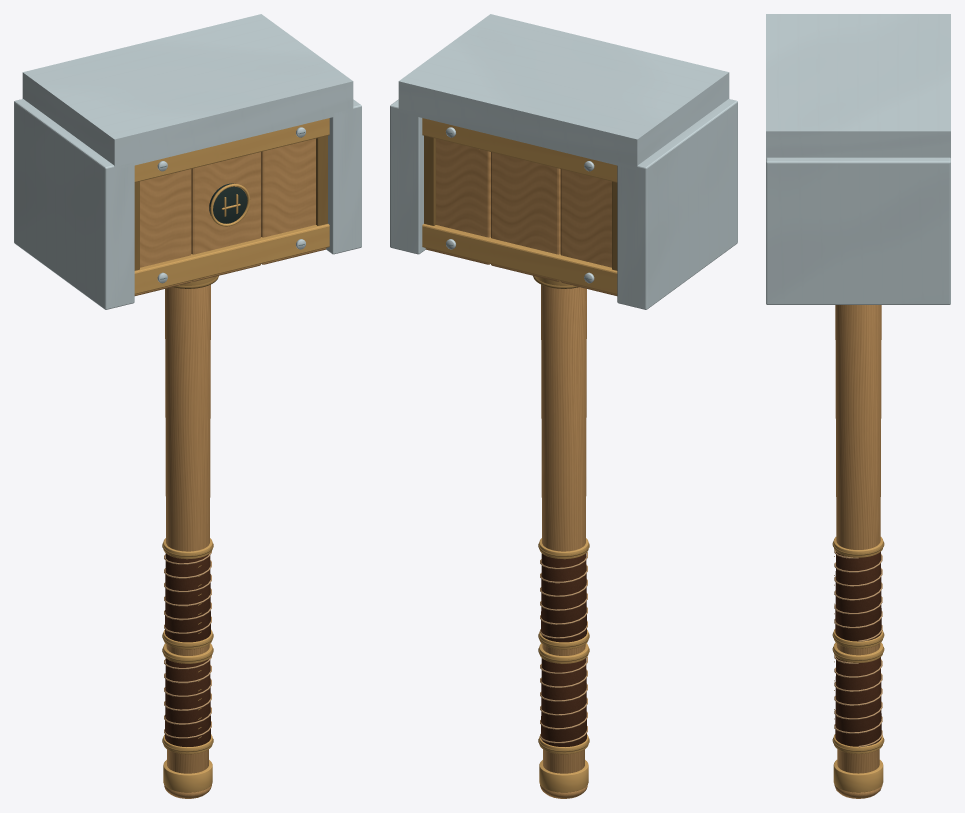
Rendered from maul.glb.
The picture shows the model from 3 angles, left to right: view 1: azimuth 30°, elevation 25°; view 2: azimuth 150°, elevation 25°; view 3: azimuth 270°, elevation 25°; orthographic projection.
Parts seen in each view (by area): view 1: Render_maul; view 2: Render_maul; view 3: Render_maul.
Boxes of the visible parts, x1=… form: Render_maul: x1=14, y1=14, x2=361, y2=798; Render_maul: x1=390, y1=14, x2=737, y2=798; Render_maul: x1=766, y1=14, x2=950, y2=798.
Size of the model in its own units: 0.565 by 1.51 by 0.35.
Materials: 10 (10 with a texture image).
